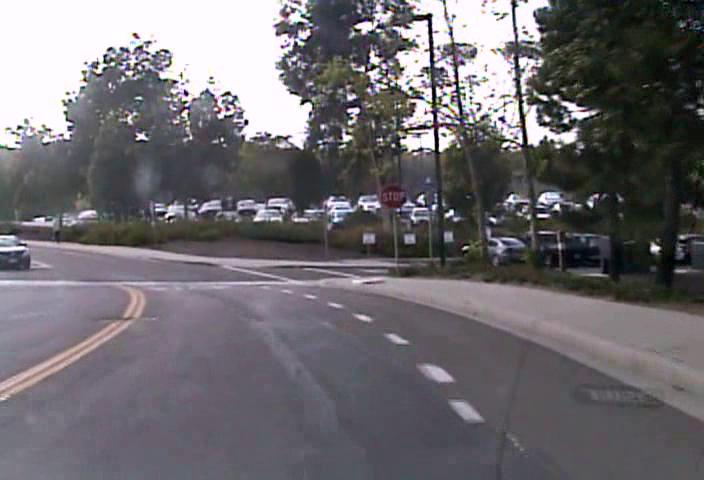stop: (379, 183, 407, 209)
